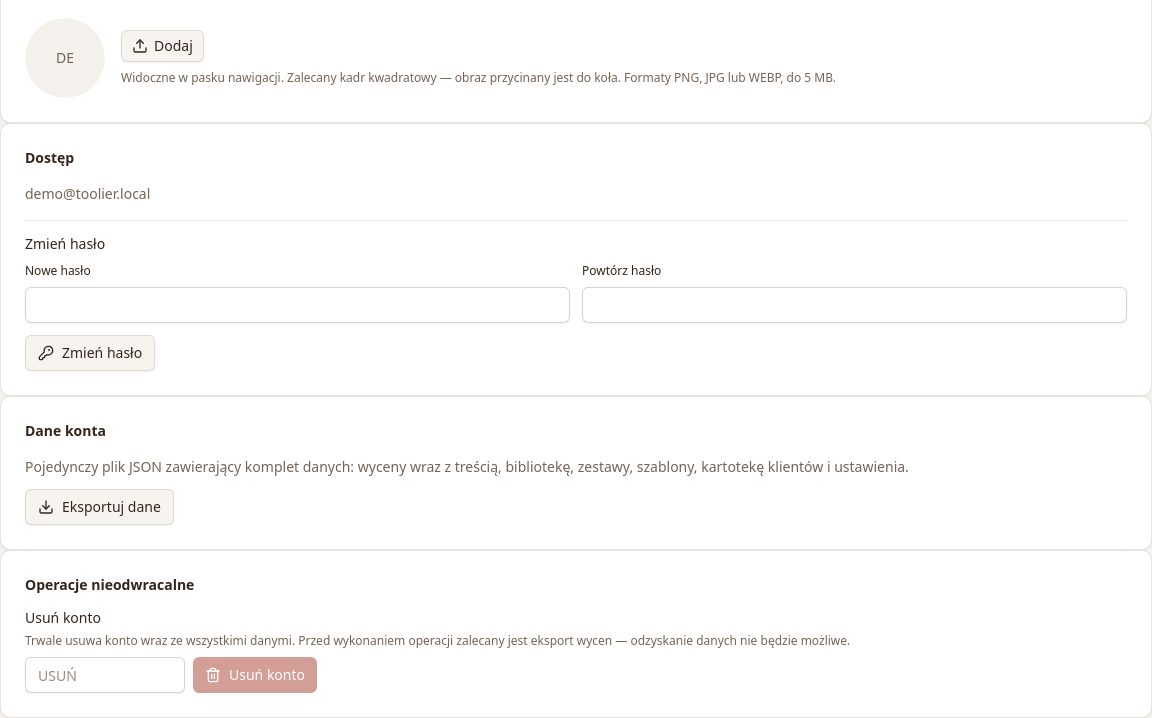
Test: Kasowanie konta › przycisk jest martwy, dopoki nie przepisze sie slowa
(page scrolled)
Expected: the button "Usuń konto" is disabled, x1=193 y1=657 x2=317 y2=693
Type "tak" into the field labelled "Usuń konto" at coordinates (105, 675), box x1=25 y1=657 x2=185 y2=693
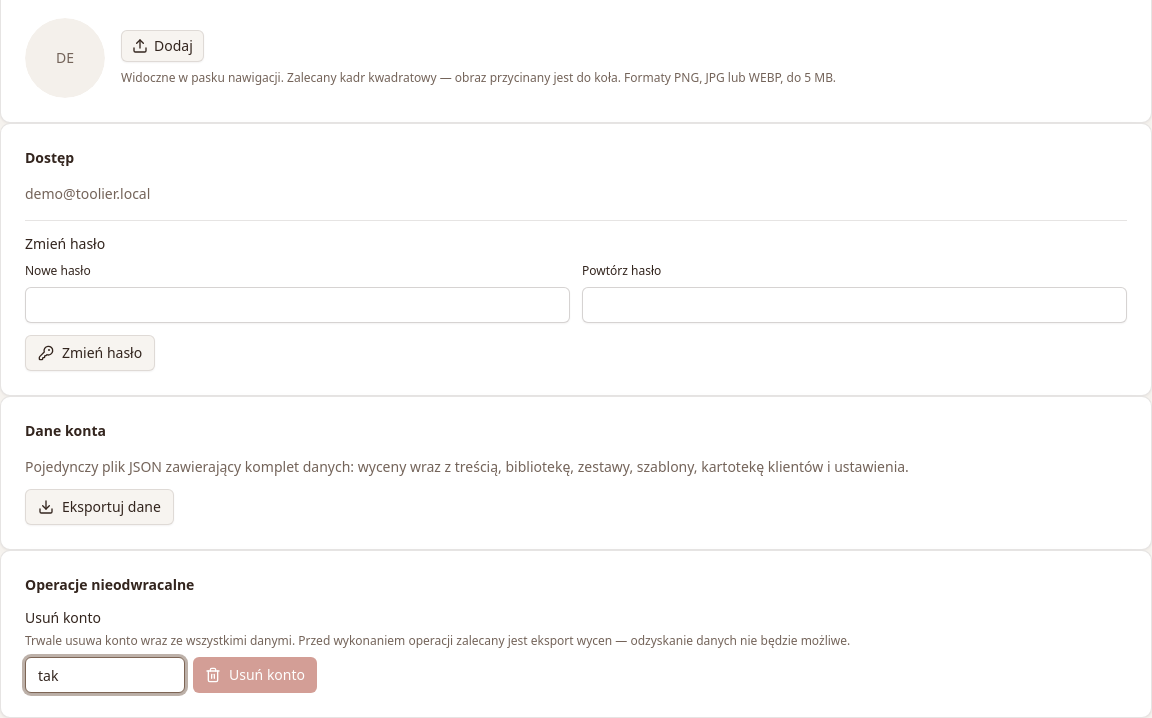
Expected: the button "Usuń konto" is disabled, x1=193 y1=657 x2=317 y2=693
Replace the text in the field labelled "Usuń konto" with "USUŃ" at coordinates (105, 675), box x1=25 y1=657 x2=185 y2=693
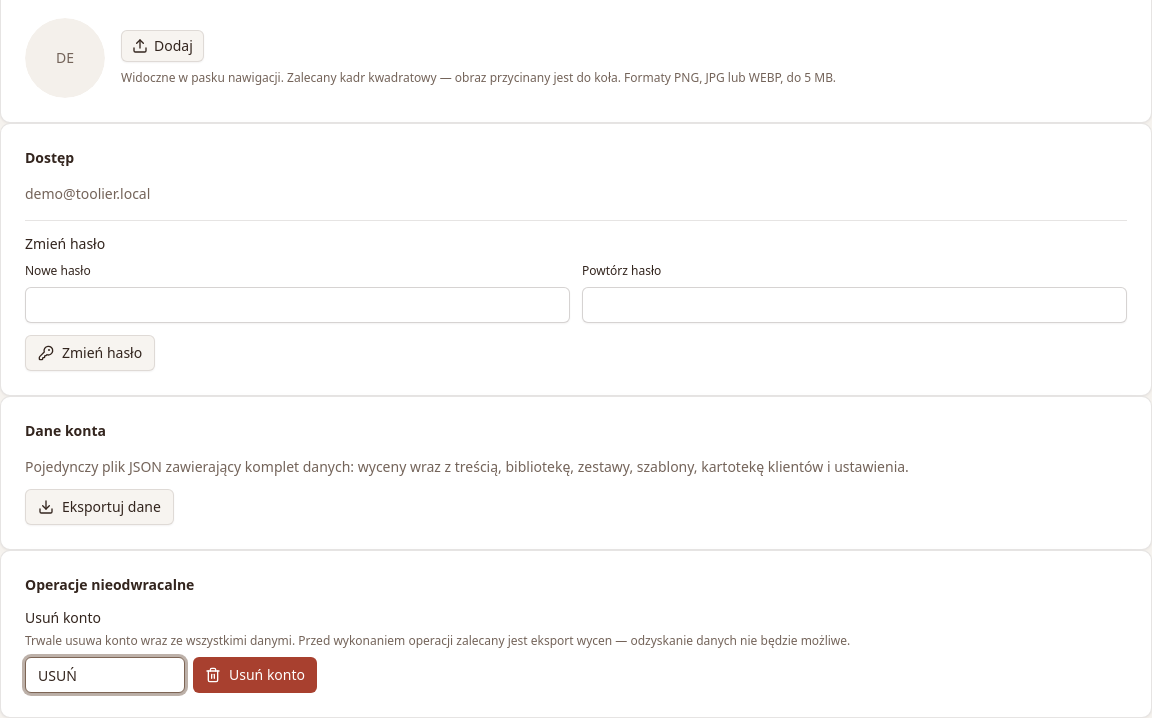
Result: the button "Usuń konto" is enabled at x1=193 y1=657 x2=317 y2=693
